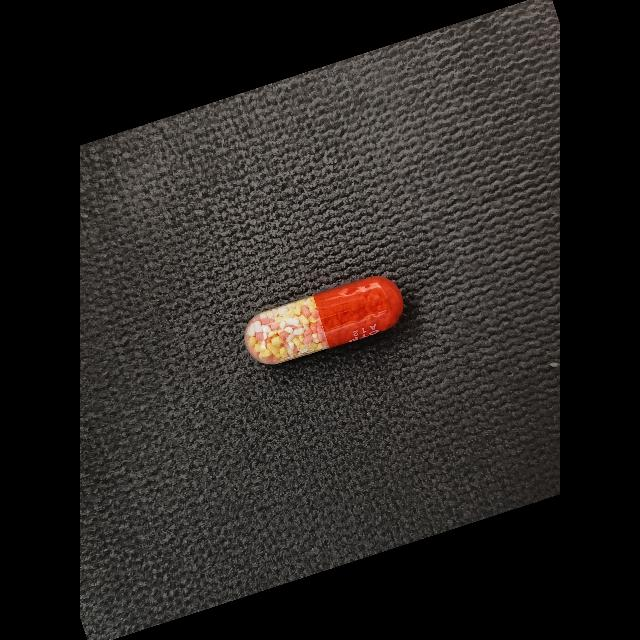Intact Capsule: (244, 276, 403, 365)
